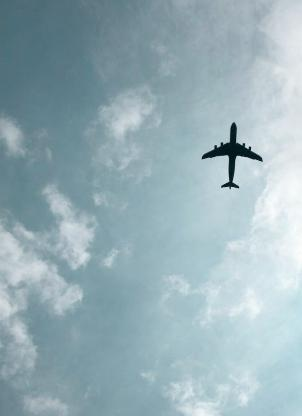C17: (200, 121, 261, 189)
